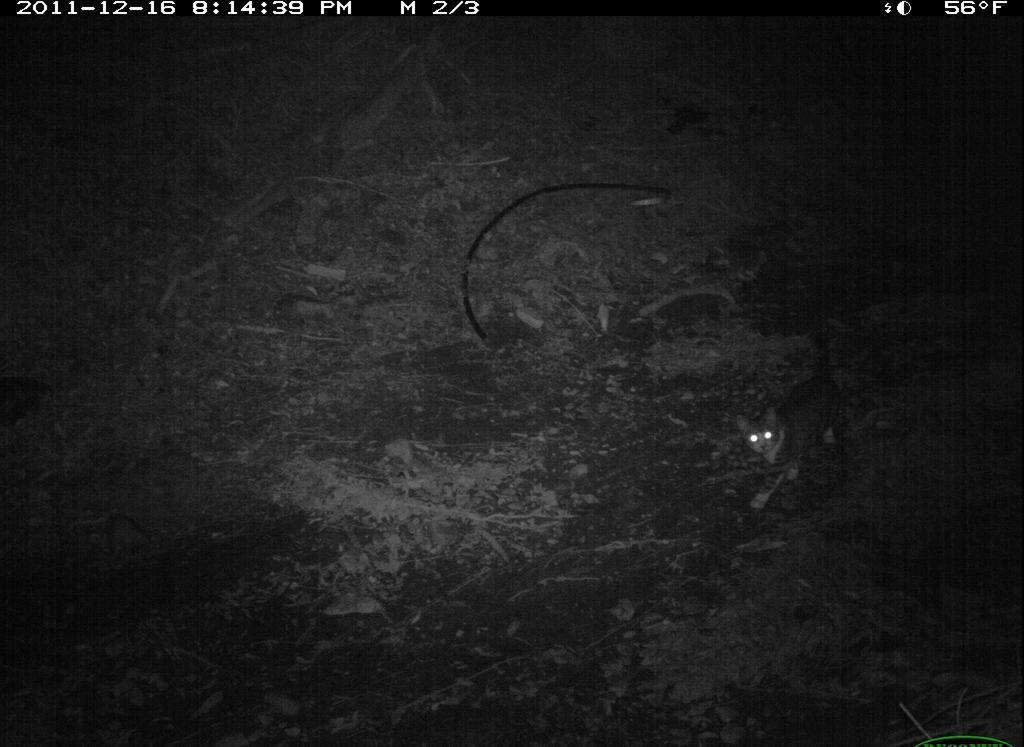cat: (733, 344, 861, 518)
